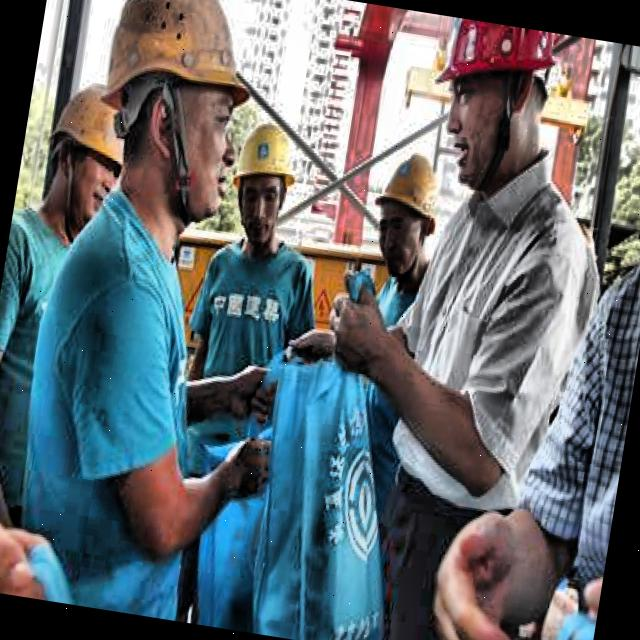helmet: (79, 0, 271, 226), (428, 18, 570, 206), (29, 59, 144, 242), (356, 130, 454, 286), (217, 113, 310, 254)
